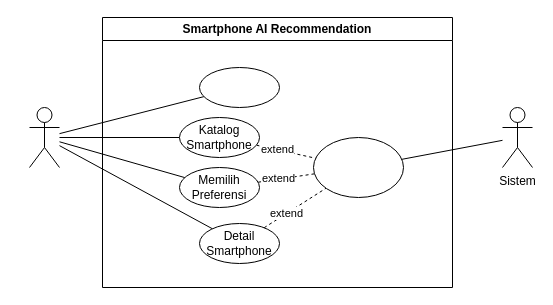
The diagram is 553 pixels wide and 305 high, and some of its shapes have lost their labels. Each missing label, with the centre of its shape:
Dasbor Sentimen: (239,87)
Pengguna: (44,137)
Rekomendasi Smartphone: (358,167)
